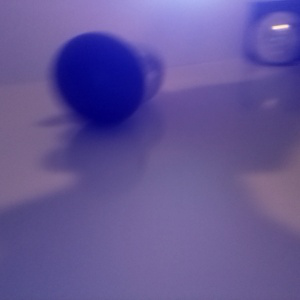alive_ball: (107, 43, 163, 103), (250, 12, 300, 64)
dead_ball: (52, 32, 143, 125)
